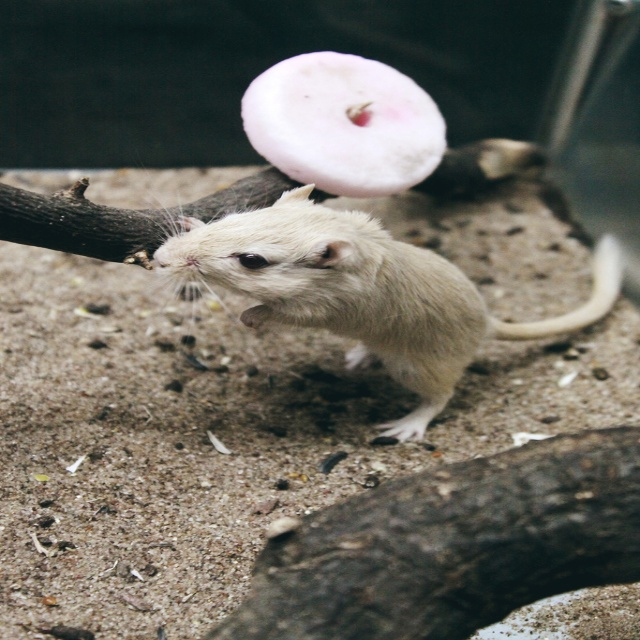Mouse: (155, 182, 625, 438)
